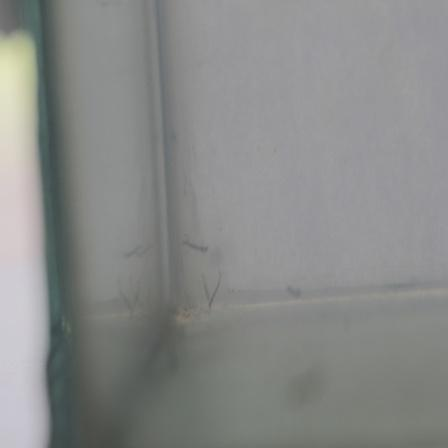Jentik-Nyamuk: (180, 230, 213, 258), (206, 269, 227, 313)
